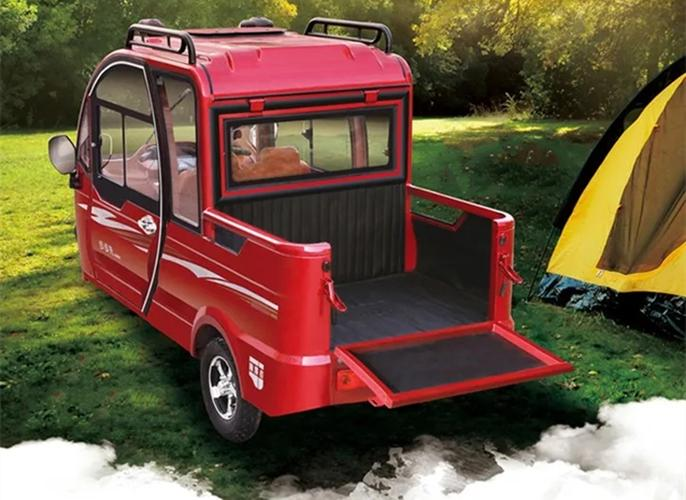empty: (52, 11, 573, 446)
